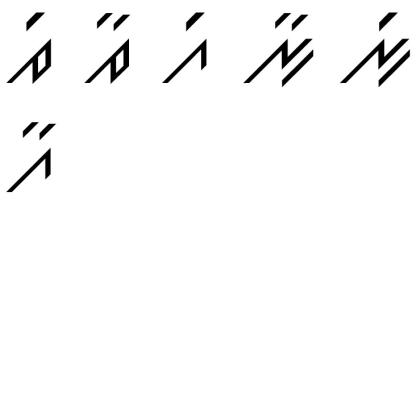gan: (6, 107, 61, 198)
gang: (151, 8, 214, 90)
ngan: (240, 7, 316, 96)
ngang: (337, 6, 411, 94)
tan: (83, 5, 137, 90)
tang: (3, 7, 56, 85)
